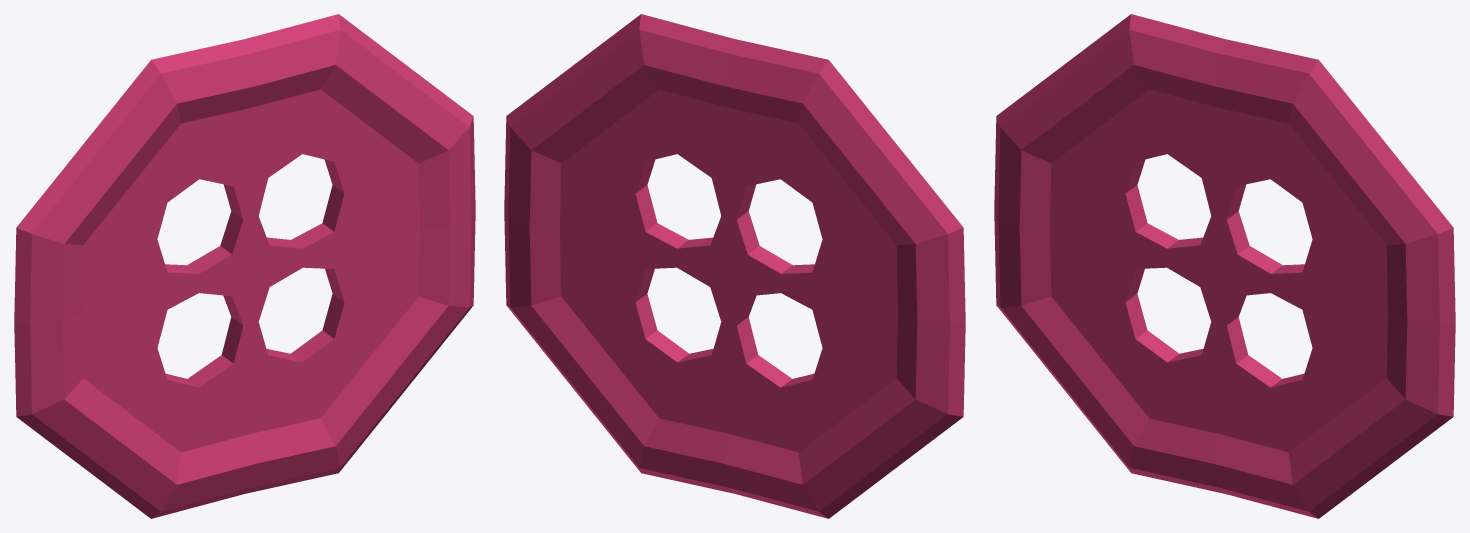
File: botao.fbx
3 views of the same model, side by side, from view 1: azimuth 30°, elevation 25°; view 2: azimuth 150°, elevation 25°; view 3: azimuth 330°, elevation 25° (orthographic).
Visible parts, largest first — view 1: Circle; view 2: Circle; view 3: Circle.
Boxes of the visible parts, x1,y1,x2,y2 form: Circle: (14,14,475,518); Circle: (504,14,965,518); Circle: (994,14,1455,518).
Bounding box in the file's own units: 724 × 689 × 62.51.
